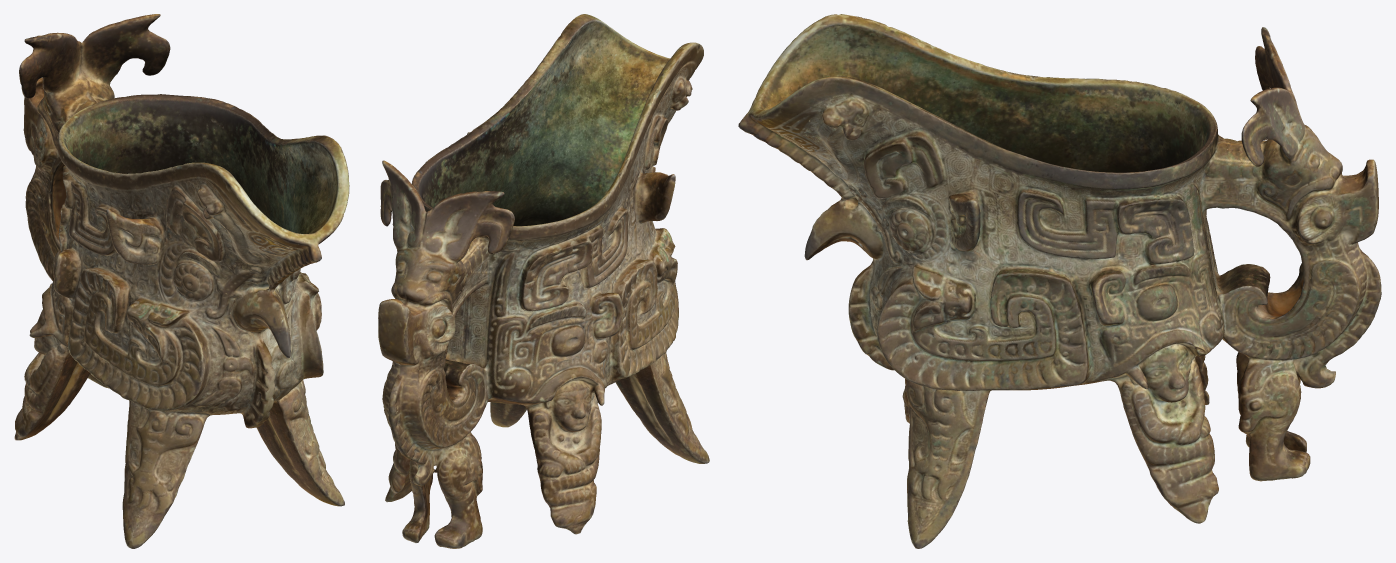
Rendered from fake02.glb.
3 views of the same model, side by side, from view 1: azimuth 30°, elevation 25°; view 2: azimuth 150°, elevation 25°; view 3: azimuth 270°, elevation 25° (orthographic). The views are drawn at different scales.
Parts seen in each view (by area): view 1: part02-std.glb; view 2: part02-std.glb; view 3: part02-std.glb.
Part boxes in pixels (x1,y1,x2,y2): part02-std.glb: (14, 14, 349, 548); part02-std.glb: (378, 14, 709, 548); part02-std.glb: (738, 14, 1381, 548).
Bounding box in the file's own units: 0.1273 × 0.2198 × 0.2868.
Materials: 1 (1 with a texture image).
